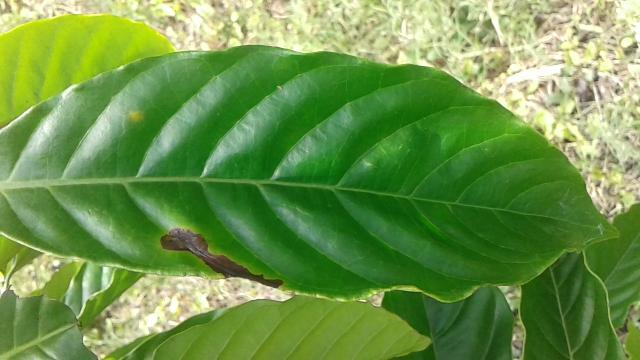red_spider_mite: (0, 38, 626, 307)
